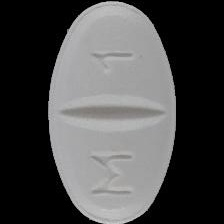33261-898: (0, 0, 224, 224)
